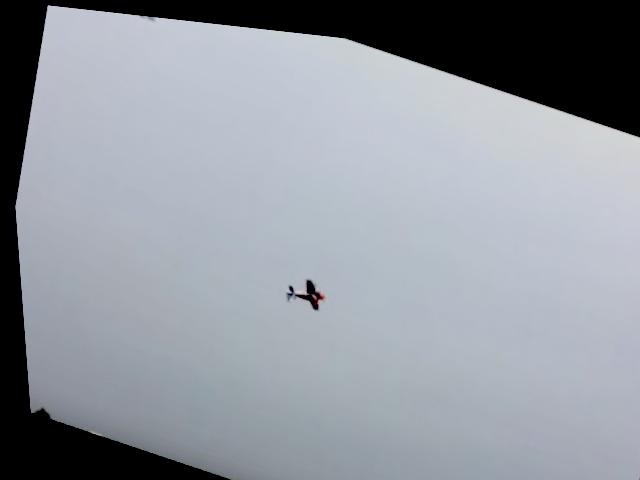uav: (276, 260, 327, 312)
